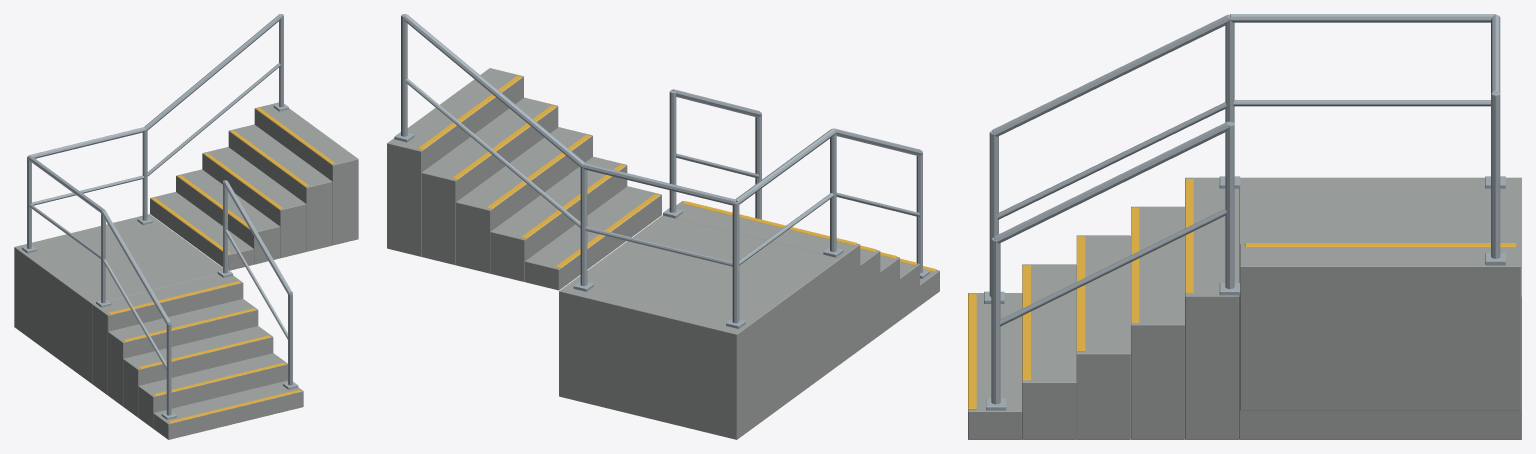
File: b13_quarter_turn_pedestrian_stair.glb
3 views of the same model, side by side, from view 1: azimuth 30°, elevation 25°; view 2: azimuth 150°, elevation 25°; view 3: azimuth 270°, elevation 25° (orthographic). The views are drawn at different scales.
Parts seen in each view (by area): view 1: b13_quarter_turn_pedestrian_stair; view 2: b13_quarter_turn_pedestrian_stair; view 3: b13_quarter_turn_pedestrian_stair.
Part boxes in pixels (x1=…): b13_quarter_turn_pedestrian_stair: x1=14, y1=14, x2=358, y2=439; b13_quarter_turn_pedestrian_stair: x1=387, y1=14, x2=939, y2=439; b13_quarter_turn_pedestrian_stair: x1=968, y1=14, x2=1521, y2=439.
Bounding box in the file's own units: 2.95 × 2.7 × 2.96.
